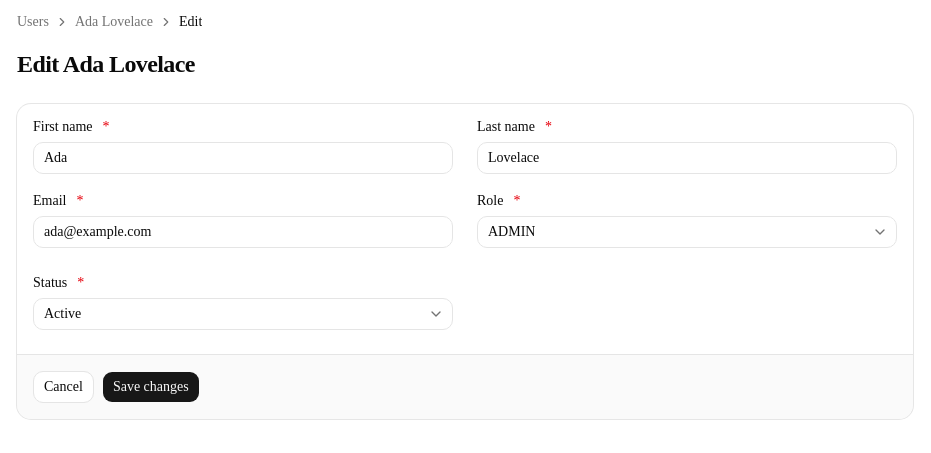
Scenario: ResourceEditPage › maps a backend field error onto the matching input
Expected: the field showing "Ada" is shown, [33, 142, 453, 174]
Click the button "Save changes" at (151, 387), box [102, 371, 200, 403]
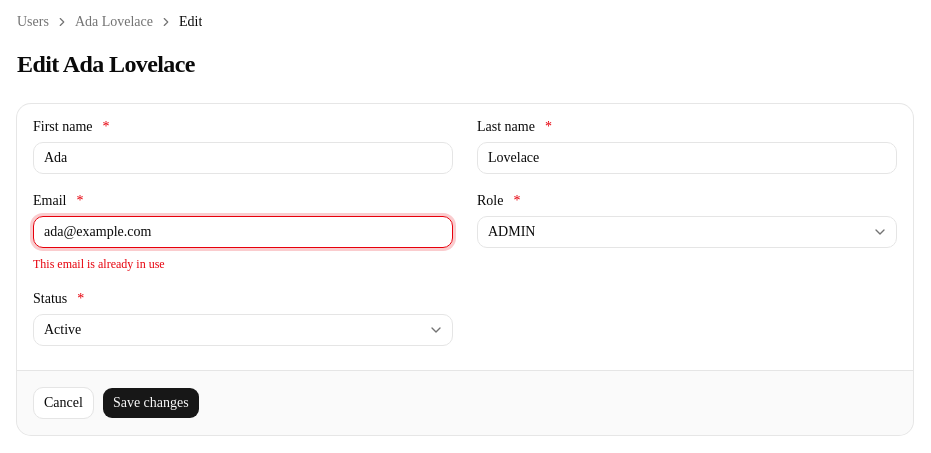
Now the text "This email is already in use" is shown, box [33, 257, 165, 271]
